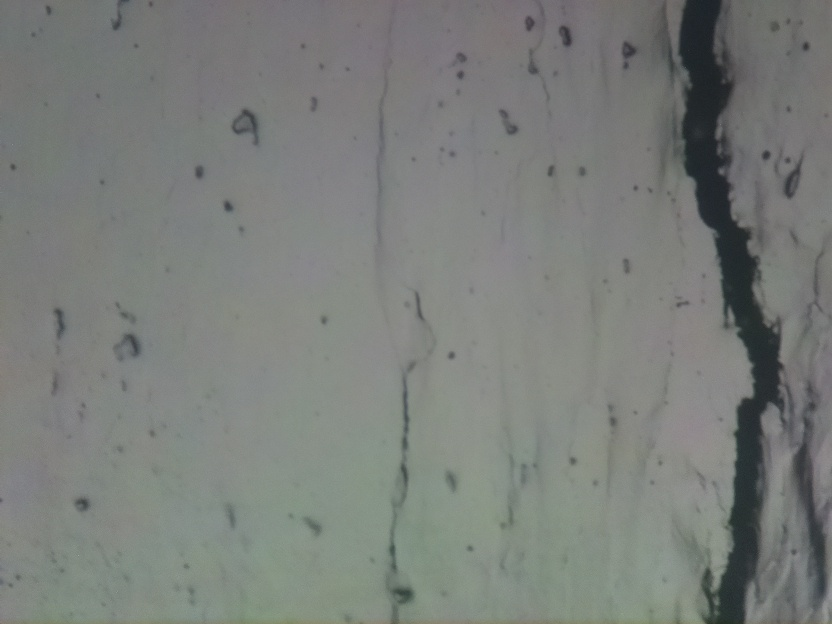crack: (677, 0, 786, 624), (391, 287, 434, 567), (372, 0, 402, 261)
